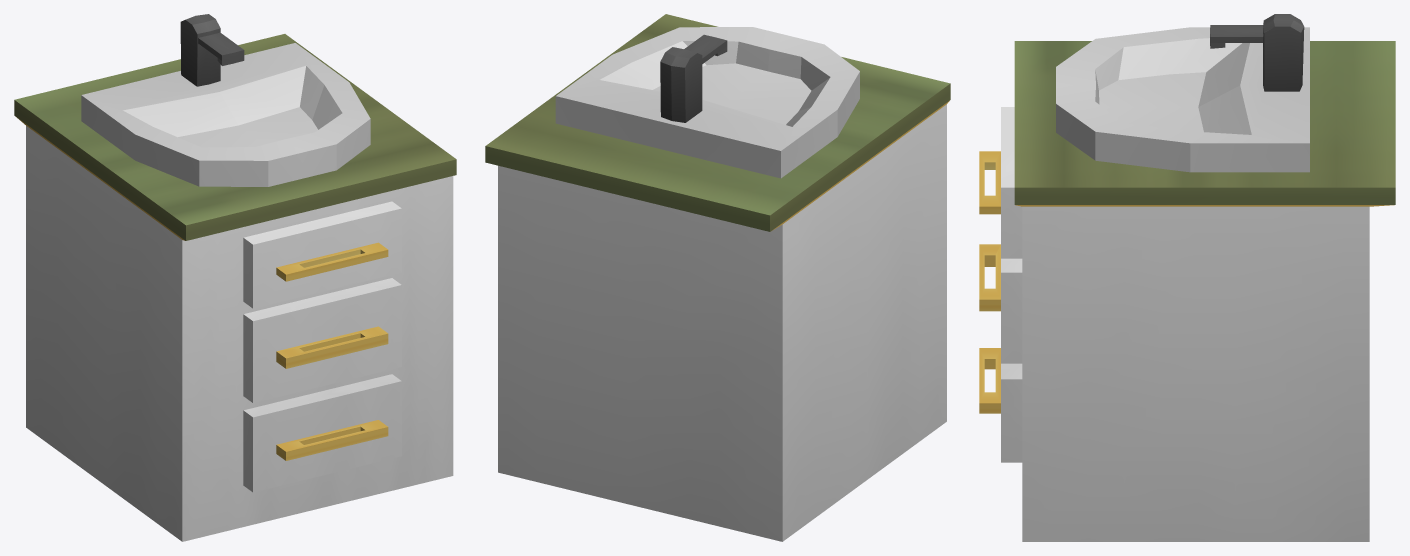
The model's file is sm_worktop_sink_007x007x007_a.fbx.
3 renders of one model, left to right at view 1: azimuth 30°, elevation 25°; view 2: azimuth 150°, elevation 25°; view 3: azimuth 270°, elevation 25°, orthographic. The views are drawn at different scales.
Parts seen in each view (by area): view 1: sm_worktop_sink_007x007x007_a; view 2: sm_worktop_sink_007x007x007_a; view 3: sm_worktop_sink_007x007x007_a.
Part boxes in pixels (left/top/right/bottom): sm_worktop_sink_007x007x007_a: left=14, top=14, right=456, bottom=541; sm_worktop_sink_007x007x007_a: left=485, top=14, right=950, bottom=541; sm_worktop_sink_007x007x007_a: left=979, top=14, right=1395, bottom=541.
Size of the model in its own units: 70 by 99.75 by 83.99.
